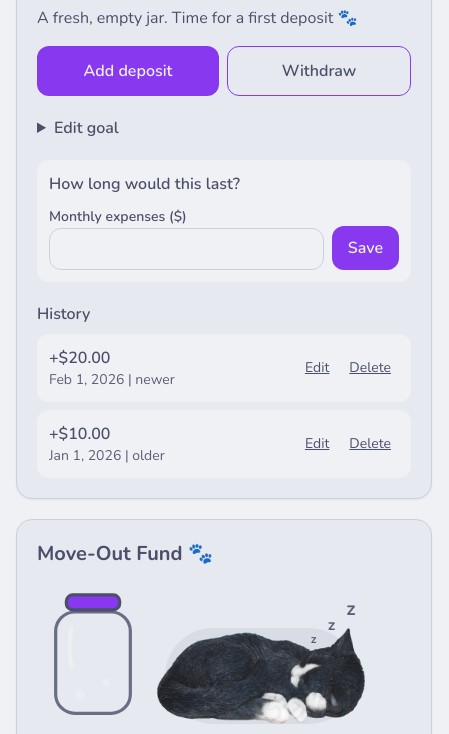
Test case: dashboard › lists newest first, and supports edit and delete
The width and height of the screenshot is (449, 734).
(page scrolled)
Expected: the list item "+$20.00 Feb 1, 2026 | newer Edit Delete" is shown, left=37, top=334, right=411, bottom=402
Expected: the list item "+$10.00 Jan 1, 2026 | older Edit Delete" is shown, left=37, top=410, right=411, bottom=478
Click the button with aria-label "Edit newer": [317, 368] box left=297, top=354, right=337, bottom=382
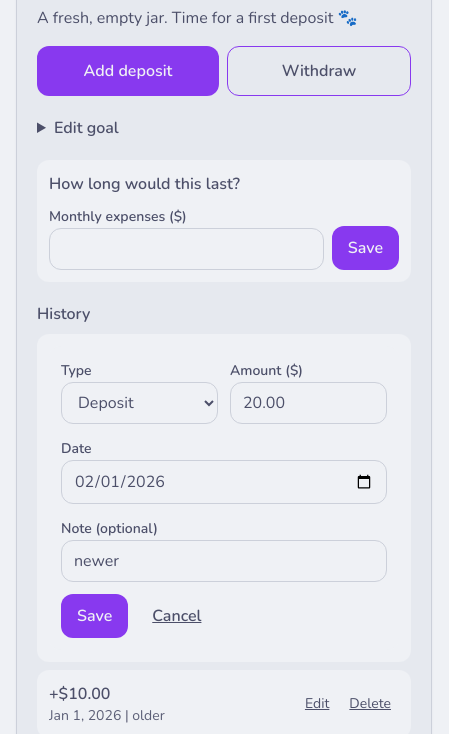
Replace the text in the field labelled "Amount ($)" with "50": [308, 403] box left=230, top=382, right=387, bottom=424
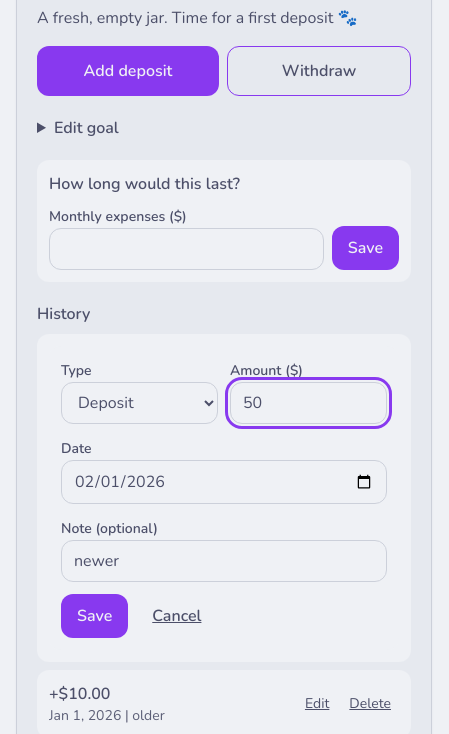
Click the button "Save" below "Note (optional)": [95, 616] box left=61, top=594, right=128, bottom=638
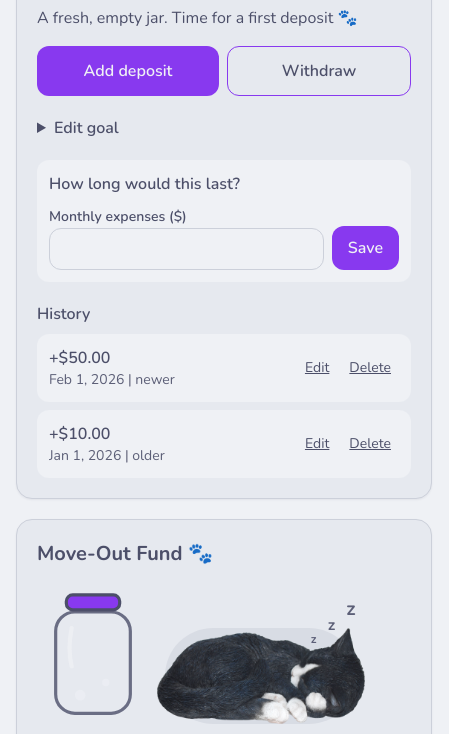
Click the button with aria-label "Delete older": [370, 444] box left=341, top=430, right=399, bottom=458
(page scrolled)
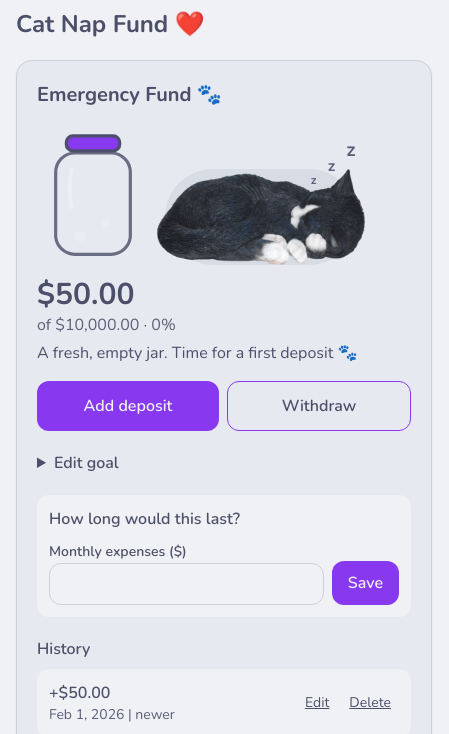
Expected: the text with test id "emergency-balance" reads "$50.00", left=37, top=274, right=134, bottom=315
